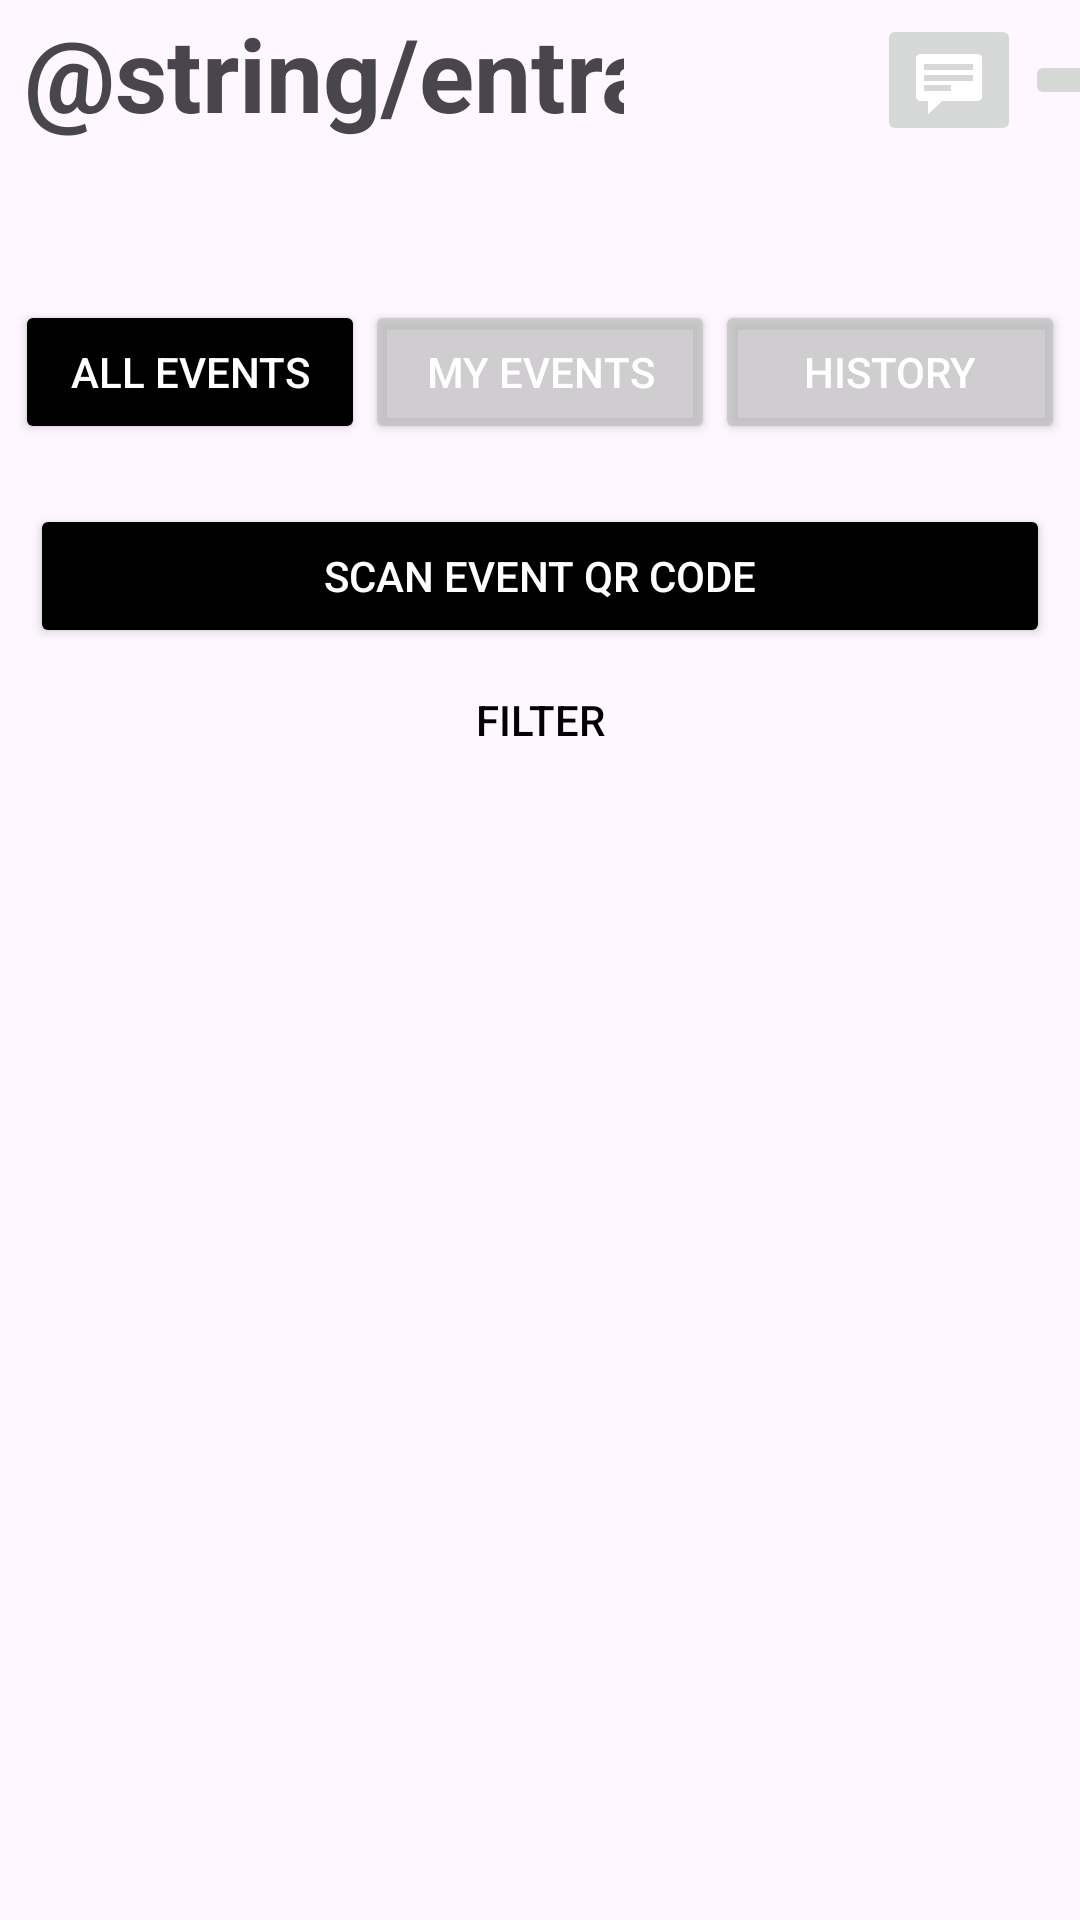

Point at icon controls on the screen. Image size 1080w x 1920h, points as [x,y].
chat: [949,80]
